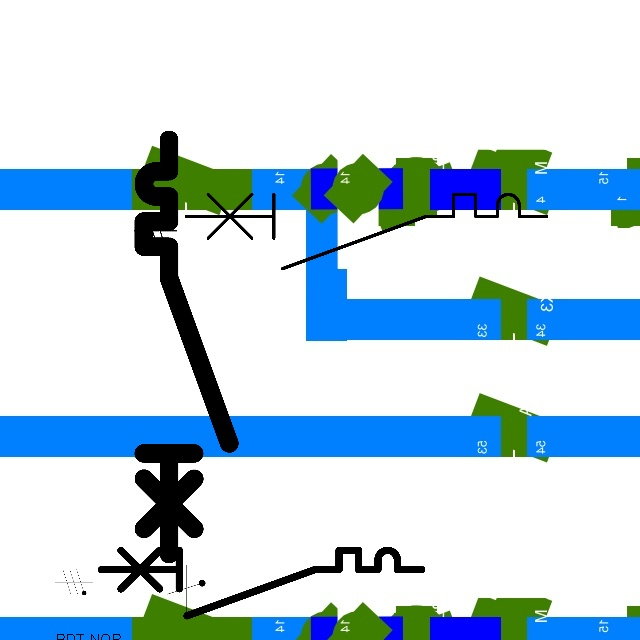interruptor_termomagnetico: (133, 129, 239, 565), (176, 185, 555, 277), (93, 542, 430, 624)
